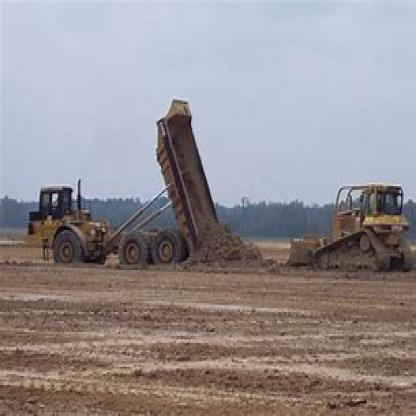bull_dozer/loader/grader: (277, 164, 415, 283)
dump_truck: (26, 91, 228, 272)
